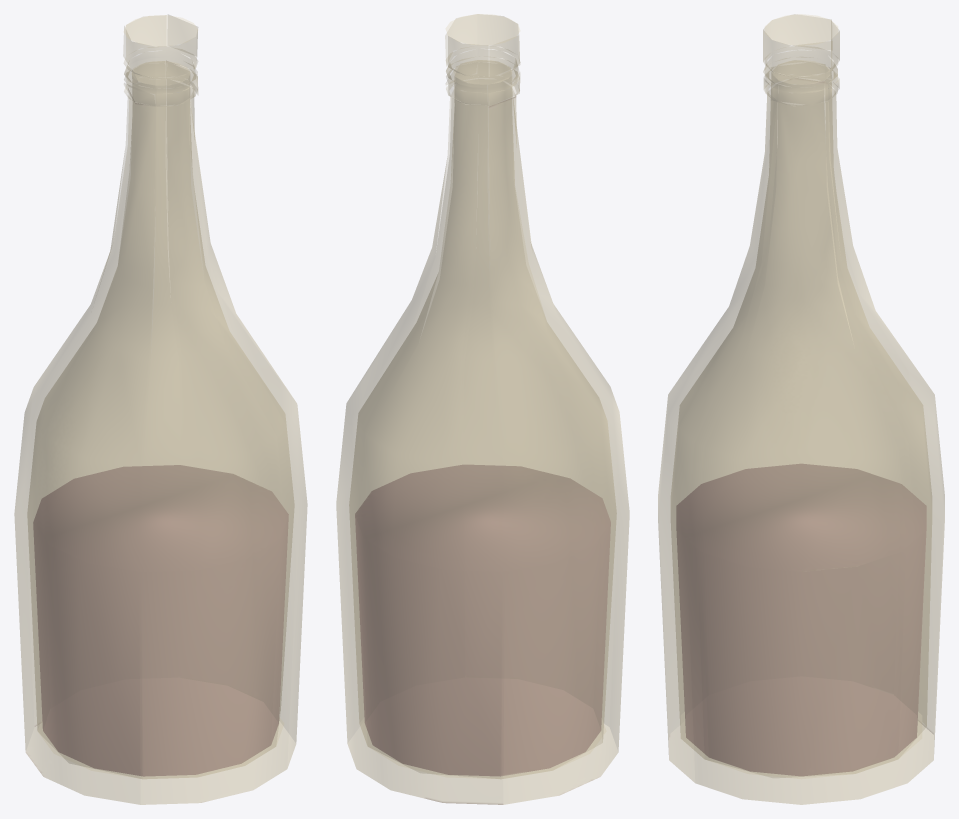
The model's file is bottle1.gltf.
3 renders of one model, left to right at view 1: azimuth 30°, elevation 25°; view 2: azimuth 150°, elevation 25°; view 3: azimuth 270°, elevation 25°, orthographic.
Parts seen in each view (by area): view 1: defaultMaterial.138; view 2: defaultMaterial.138; view 3: defaultMaterial.138.
Boxes of the visible parts, x1,y1,x2,y2 form: defaultMaterial.138: (14, 14, 307, 804); defaultMaterial.138: (336, 14, 629, 804); defaultMaterial.138: (658, 14, 944, 804).
Size of the model in its own units: 0.1633 by 0.4396 by 0.1592.
Materials: 1 (1 with a texture image).
